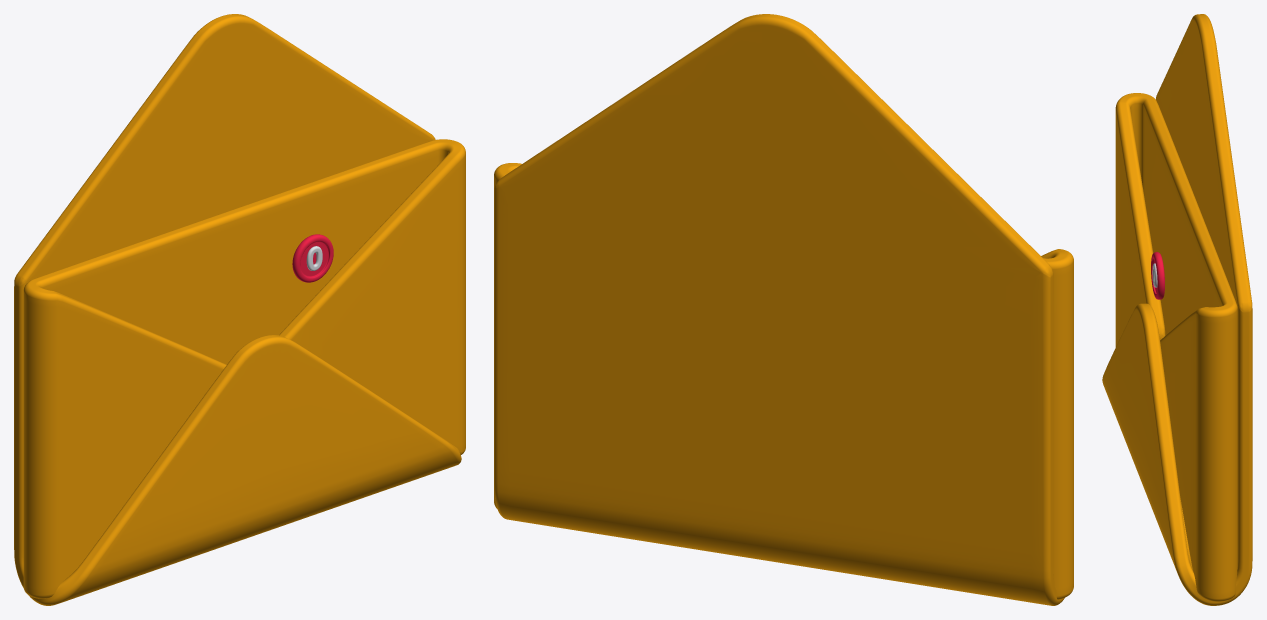
The model's file is empty-inbox-3d-animated-icon-415142435542.glb.
3 renders of one model, left to right at view 1: azimuth 30°, elevation 25°; view 2: azimuth 150°, elevation 25°; view 3: azimuth 270°, elevation 25°, orthographic. The views are drawn at different scales.
Visible parts, largest first — view 1: ENVELOPE.001, X SIGN; view 2: ENVELOPE.001; view 3: ENVELOPE.001, X SIGN.
Part boxes in pixels (x1,y1,x2,y2): ENVELOPE.001: (14,14,465,605); X SIGN: (292,234,333,282); ENVELOPE.001: (494,14,1073,605); ENVELOPE.001: (1102,14,1252,605); X SIGN: (1151,252,1164,299).
Size of the model in its own units: 0.9082 by 0.9166 by 0.2606.
